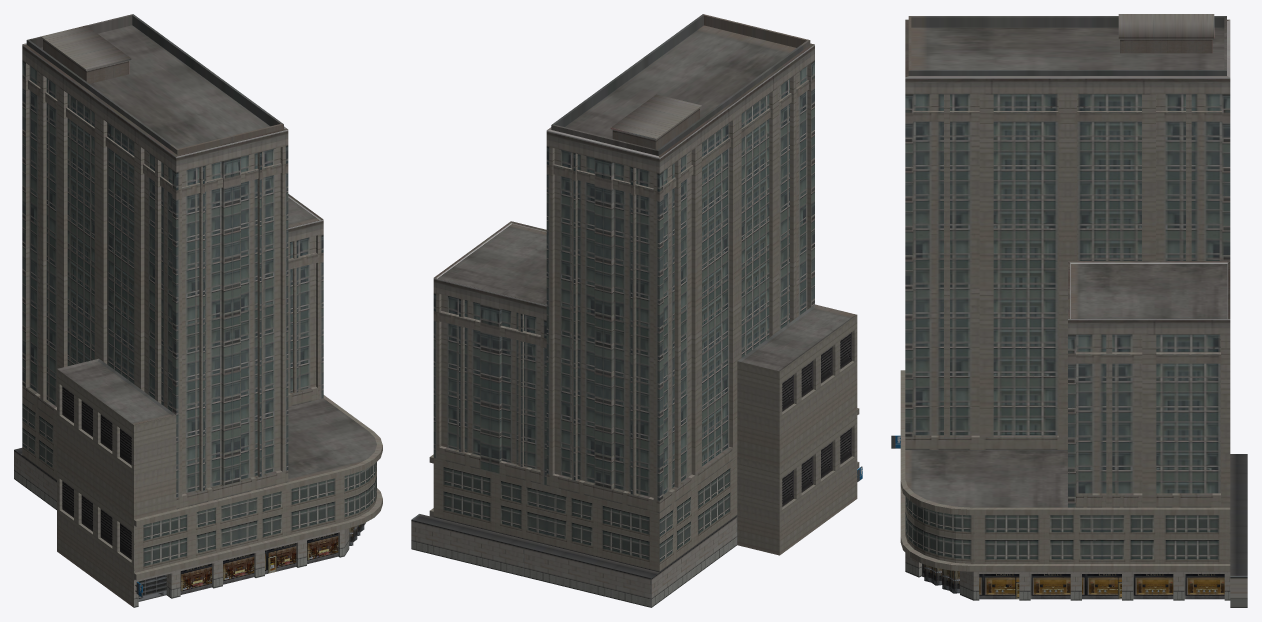
Rendered from Mall.fbx.
3 renders of one model, left to right at view 1: azimuth 30°, elevation 25°; view 2: azimuth 150°, elevation 25°; view 3: azimuth 270°, elevation 25°, orthographic. The views are drawn at different scales.
Parts seen in each view (by area): view 1: casino shopping mall; view 2: casino shopping mall; view 3: casino shopping mall.
Boxes of the visible parts, x1,y1,x2,y2 form: casino shopping mall: (14,14,382,607); casino shopping mall: (411,14,862,607); casino shopping mall: (891,14,1247,607).
Size of the model in its own units: 6555 by 10073 by 6820.
Materials: 1 (1 with a texture image).
